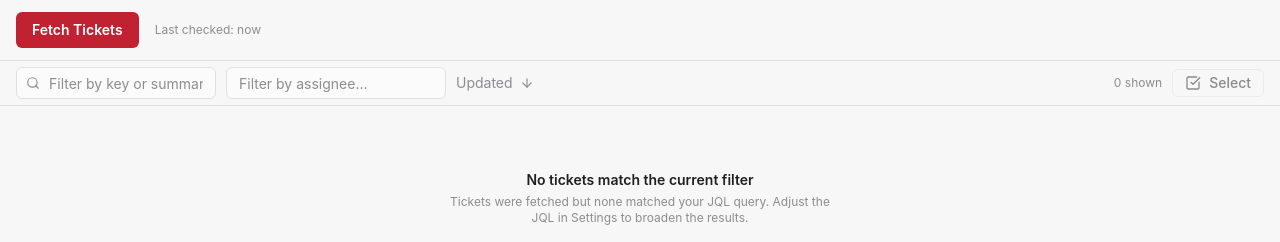
TicketListPage › shows error state when fetch fails
The width and height of the screenshot is (1280, 242).
Click the button "Fetch Tickets". click: (77, 30)
box: x1=16 y1=12 x2=139 y2=48
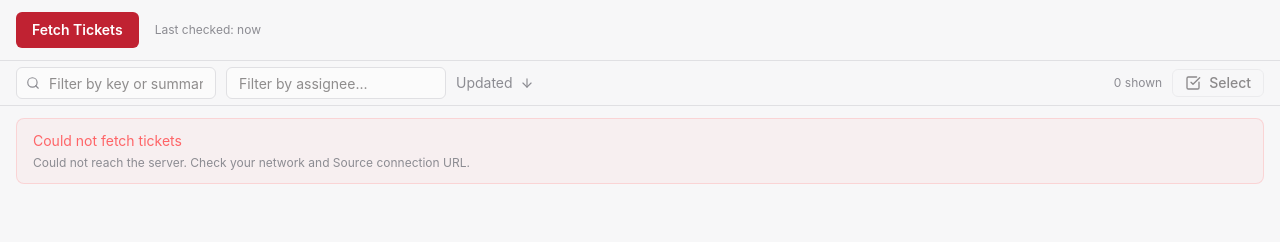
Check: the message is shown, box x1=16 y1=118 x2=1264 y2=184
